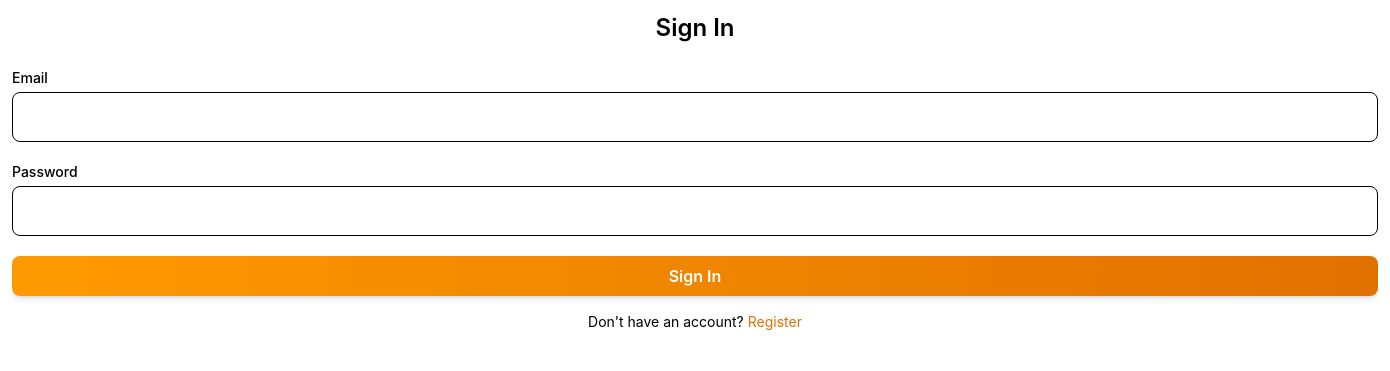
Login › Form validation › shows error for password shorter than 6 characters
The width and height of the screenshot is (1390, 371).
Type "test@example.com" into the field labelled "Email" at (695, 117), box x1=12 y1=92 x2=1378 y2=142
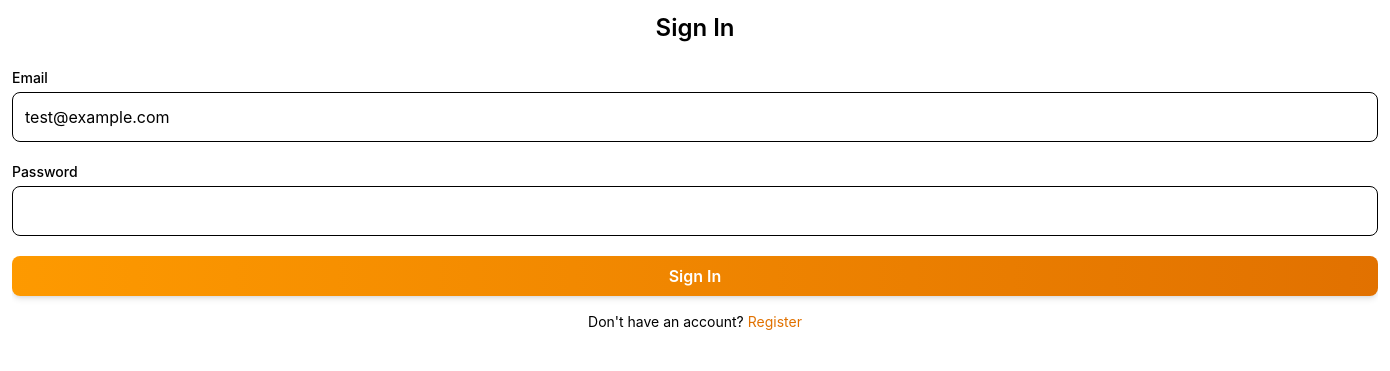
Type "123" into the password field labelled "Password" at (695, 211), box x1=12 y1=186 x2=1378 y2=236
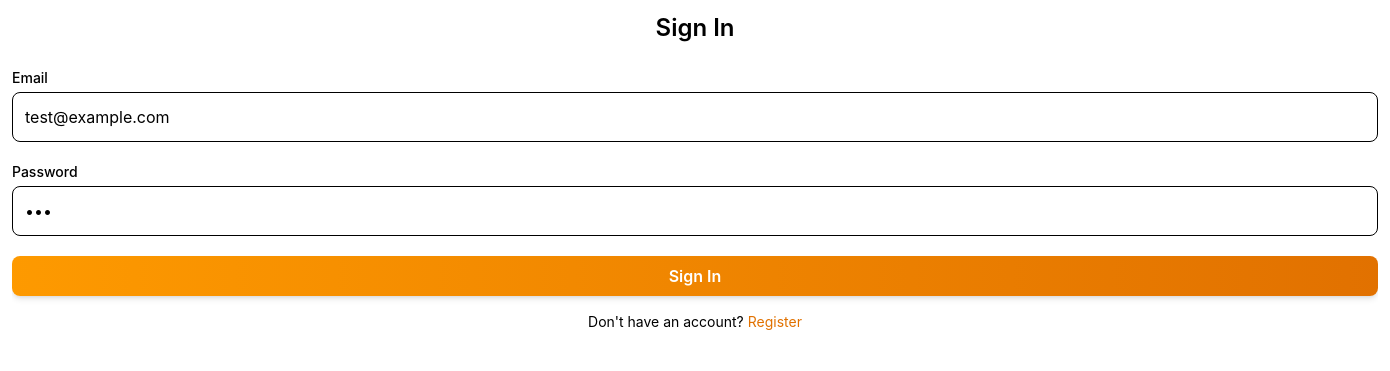
Click the button "Sign In" at (695, 276), box x1=12 y1=256 x2=1378 y2=296
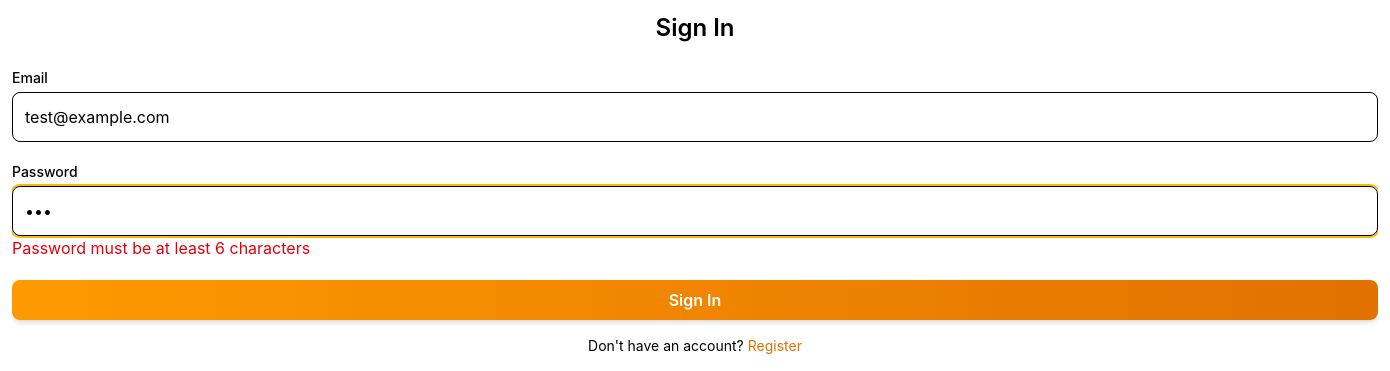
Expected: the text "Password must be at least 6 characters" is shown, x1=12 y1=238 x2=310 y2=258
